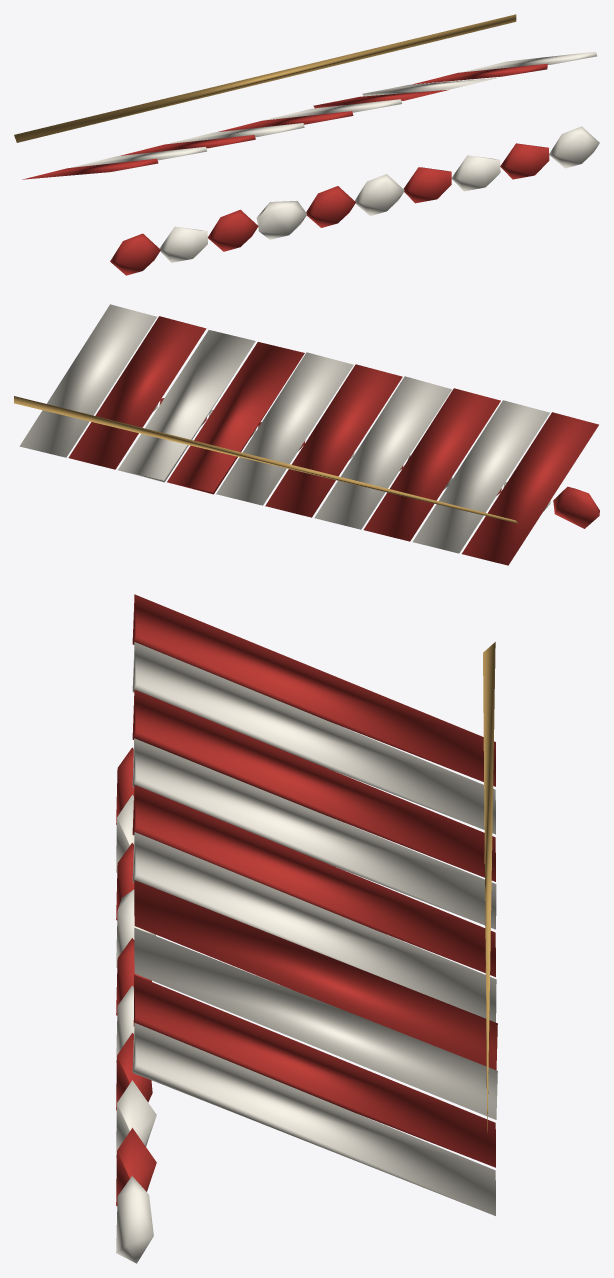
Rendered from lod_shop_awning.glb.
3 renders of one model, top to bottom at view 1: azimuth 30°, elevation 25°; view 2: azimuth 150°, elevation 25°; view 3: azimuth 270°, elevation 25°, orthographic. The views are drawn at different scales.
Visible parts, largest first — view 1: shop_awning; view 2: shop_awning; view 3: shop_awning.
Part boxes in pixels (bbox=[...]): shop_awning: bbox=[14, 14, 599, 275]; shop_awning: bbox=[14, 304, 599, 565]; shop_awning: bbox=[116, 594, 497, 1263].
Size of the model in its own units: 3.49 by 0.7259 by 1.15.
